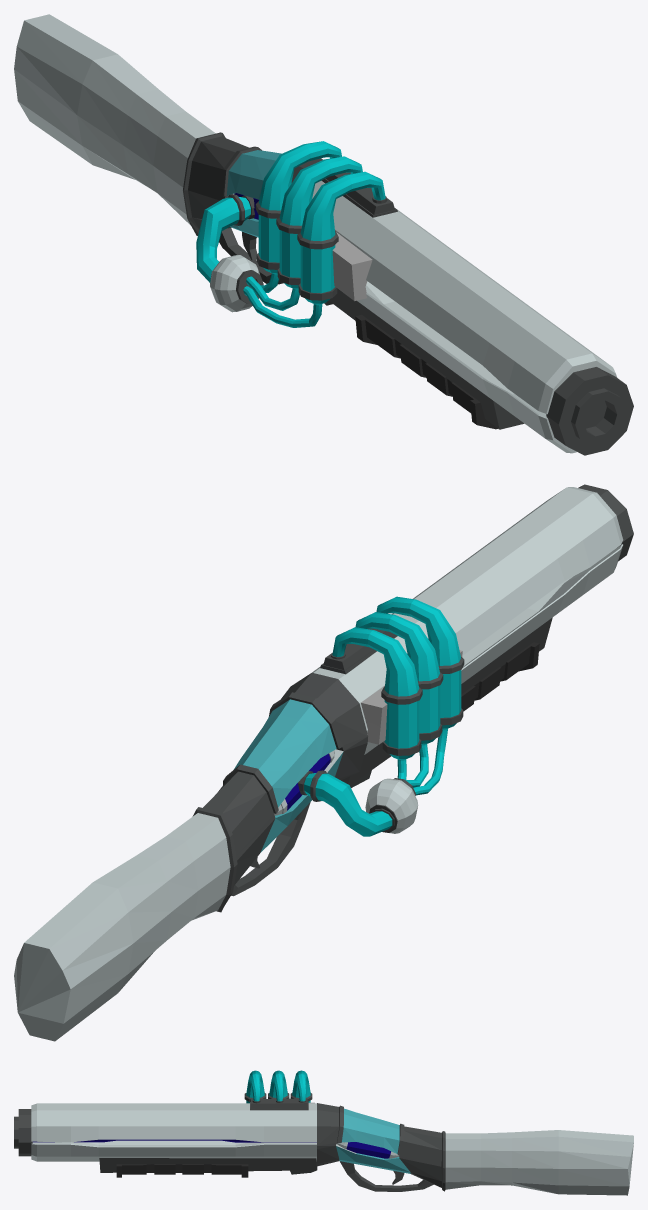
Rendered from Shotgun_C.fbx.
3 renders of one model, top to bottom at view 1: azimuth 30°, elevation 25°; view 2: azimuth 150°, elevation 25°; view 3: azimuth 270°, elevation 25°, orthographic. The views are drawn at different scales.
Visible parts, largest first — view 1: pCylinder110, pCylinder84, pCylinder126, pCylinder108, pCylinder111, pCylinder125, pCylinder120, pCylinder106, pCube37, pCylinder122, pSphere27, pCube39 (+1 smaller); view 2: pCylinder110, pCylinder84, pCylinder120, pCylinder111, pCylinder126, pCylinder125, pCylinder122, pCube37, pSphere27, pCylinder106, pCube39, pCube40 (+1 smaller); view 3: pCylinder110, pCylinder84, pCylinder111, pCube37, pCylinder106, pCylinder108, pCube40, pSphere48, pCylinder126, pCylinder120, pCylinder121, pCylinder125.
Part boxes in pixels (x1,y1,x2,y2): pCylinder110: (14, 14, 322, 284); pCylinder84: (312, 180, 616, 414); pCylinder126: (243, 171, 387, 327); pCylinder108: (546, 367, 633, 455); pCylinder111: (357, 281, 576, 453); pCylinder125: (246, 156, 362, 310); pCylinder120: (254, 141, 341, 293); pCylinder106: (355, 315, 497, 429); pCube37: (324, 288, 524, 429); pCylinder122: (196, 194, 254, 282); pSphere27: (210, 255, 263, 312); pCube39: (332, 232, 372, 301); pCylinder110: (14, 672, 367, 1041); pCylinder84: (312, 487, 623, 730); pCylinder120: (331, 627, 422, 780); pCylinder111: (364, 544, 622, 754); pCylinder126: (376, 596, 464, 795); pCylinder125: (355, 612, 443, 787); pCylinder122: (298, 770, 394, 836); pCube37: (341, 617, 552, 787); pSphere27: (365, 778, 418, 833); pCylinder106: (461, 642, 539, 711); pCube39: (361, 650, 462, 744); pCube40: (320, 628, 397, 674); pCylinder110: (317, 1103, 633, 1195); pCylinder84: (31, 1103, 316, 1142); pCylinder111: (31, 1140, 316, 1161); pCube37: (99, 1158, 317, 1174); pCylinder106: (116, 1164, 248, 1177); pCylinder108: (14, 1109, 32, 1156); pCube40: (250, 1098, 308, 1110); pSphere48: (336, 1142, 399, 1158); pCylinder126: (244, 1070, 266, 1103); pCylinder120: (290, 1070, 312, 1102); pCylinder121: (33, 1139, 316, 1142); pCylinder125: (268, 1070, 289, 1102).
Bounding box in the file's own units: 3.01 × 20.4 × 3.97.
